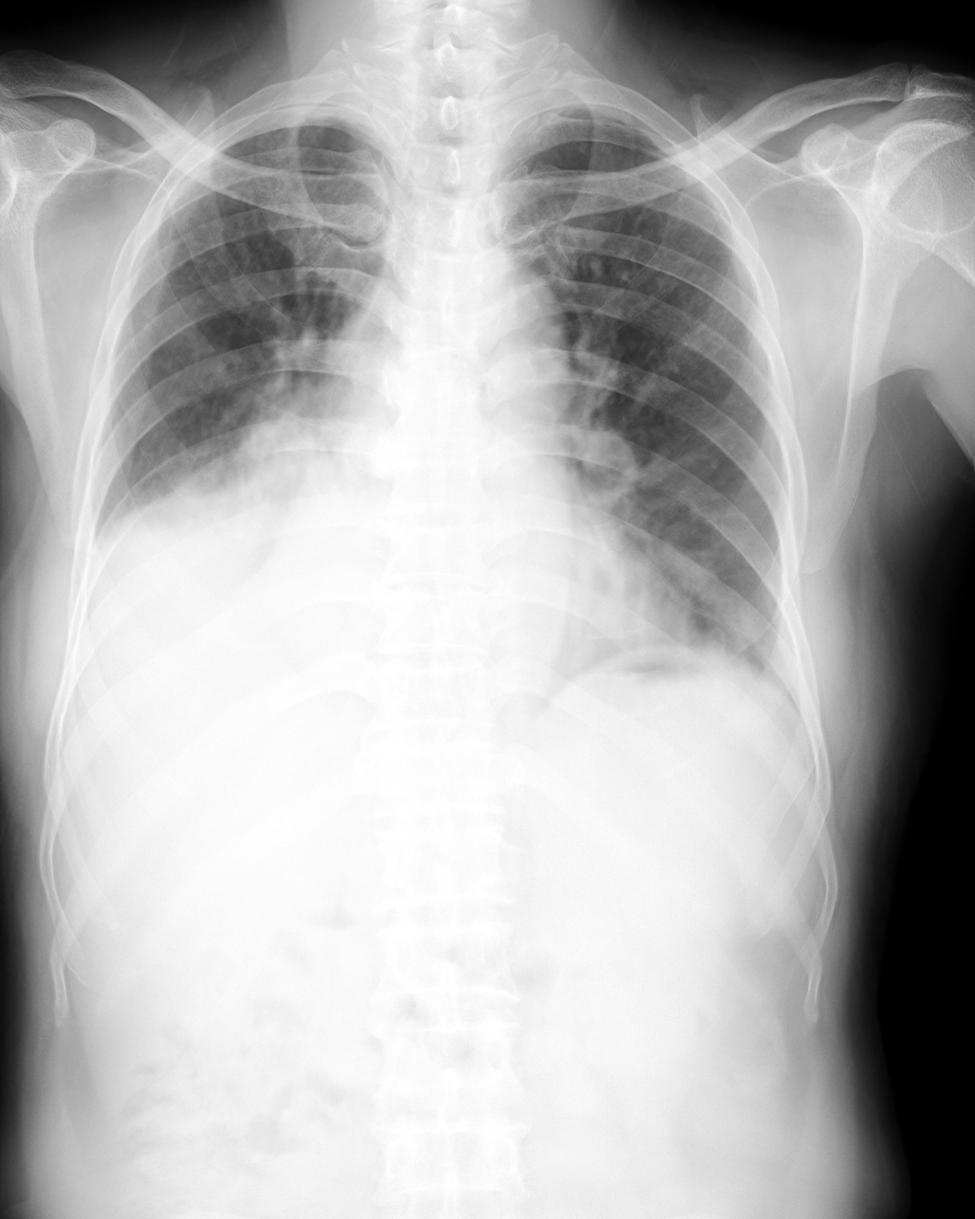Aortic enlargement: (417, 257, 563, 414)
